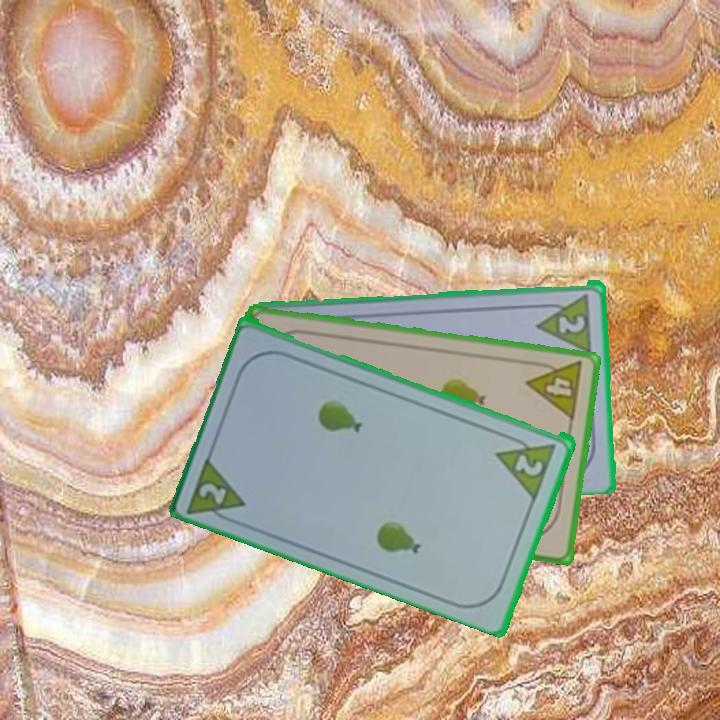2p: (533, 289, 595, 353), (511, 450, 547, 479), (195, 478, 230, 507)
4p: (523, 356, 586, 423)
